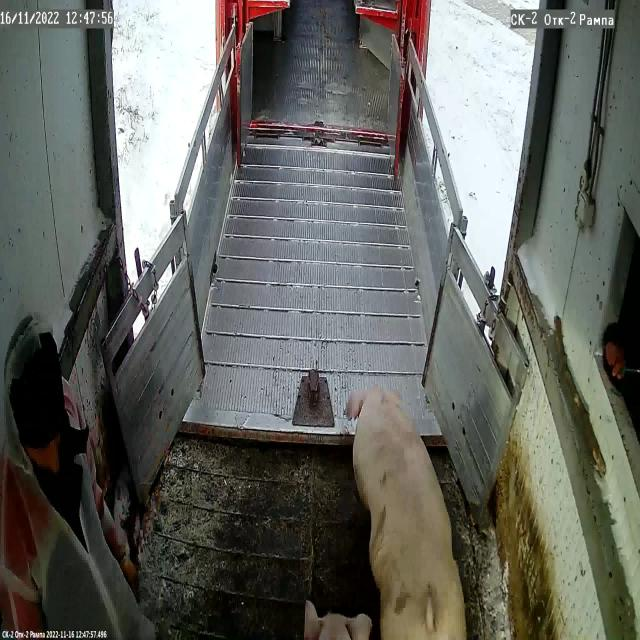pig: (346, 385, 467, 640), (307, 600, 372, 640)
